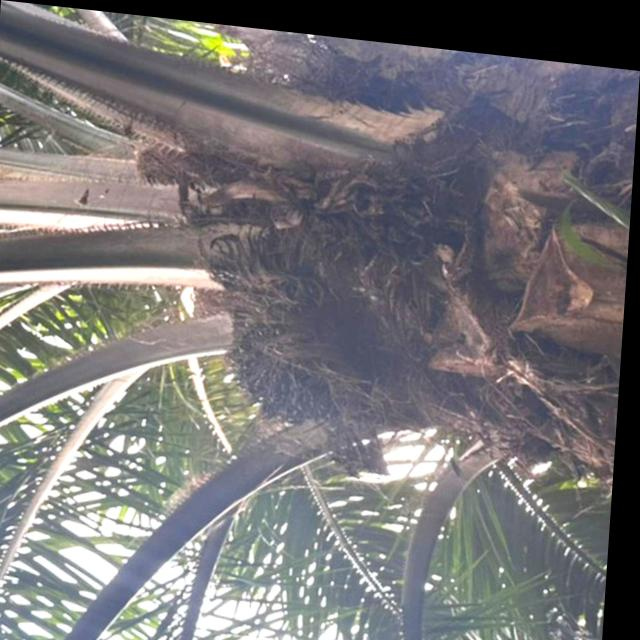unripe: (207, 254, 388, 445)
